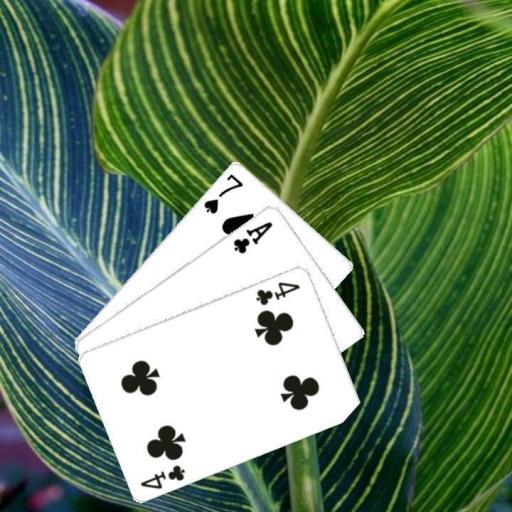card-corner: (200, 170, 244, 215), (230, 218, 274, 255), (137, 460, 187, 490), (252, 278, 302, 307)
